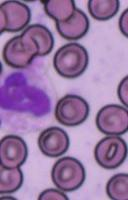N: (0, 64, 58, 134)
